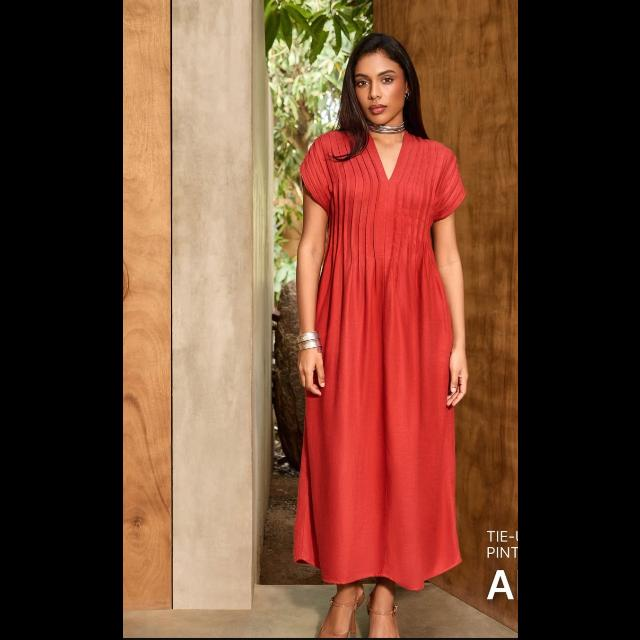dress: (302, 130, 460, 586)
